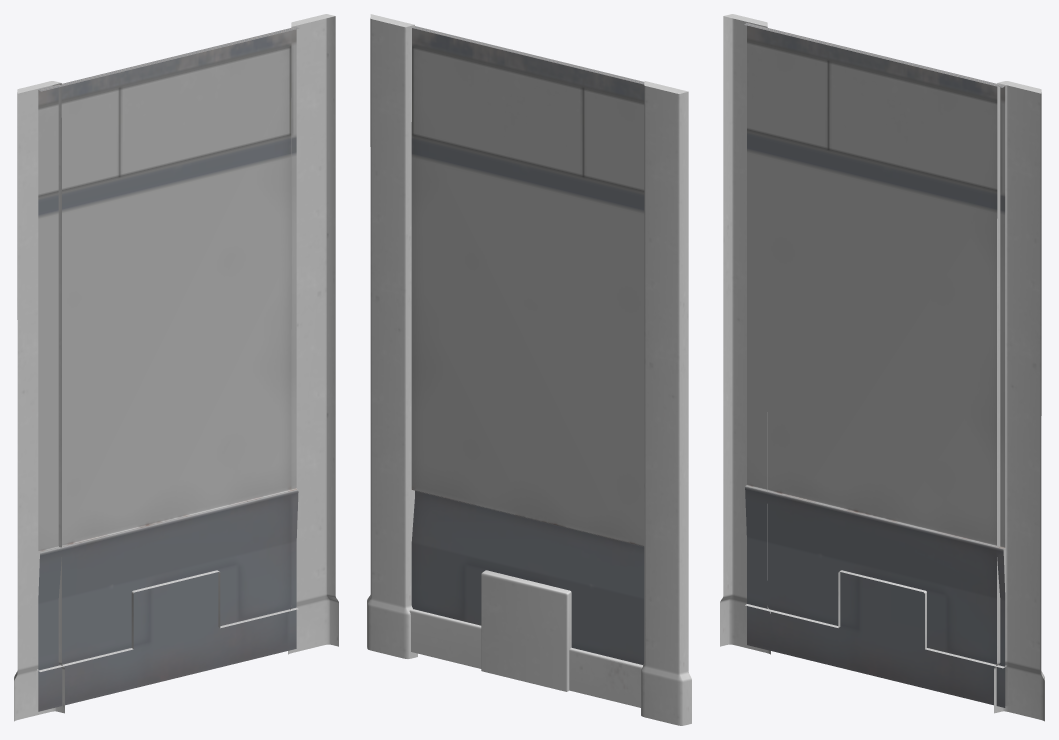
The model's file is Pfb_JLABWall4.fbx.
3 views of the same model, side by side, from view 1: azimuth 30°, elevation 25°; view 2: azimuth 150°, elevation 25°; view 3: azimuth 330°, elevation 25° (orthographic).
Parts seen in each view (by area): view 1: MAT_JLABWall; view 2: MAT_JLABWall; view 3: MAT_JLABWall.
Boxes of the visible parts, x1=… form: MAT_JLABWall: x1=14, y1=14, x2=338, y2=721; MAT_JLABWall: x1=367, y1=14, x2=691, y2=725; MAT_JLABWall: x1=720, y1=14, x2=1044, y2=721.
Size of the model in its own units: 2.18 by 4.04 by 0.0836.
1 material, 1 textured.
